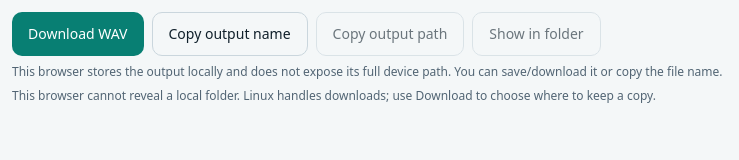
Test: history output actions › starts a download with the validated artifact name and keeps its object URL until unmount
The width and height of the screenshot is (739, 160).
Click the button "Download WAV" at (78, 34), box x1=12 y1=12 x2=144 y2=56
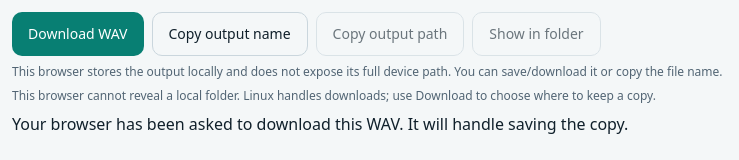
Expected: the message shows "browser has been asked to download this WAV", x1=12 y1=113 x2=628 y2=135
